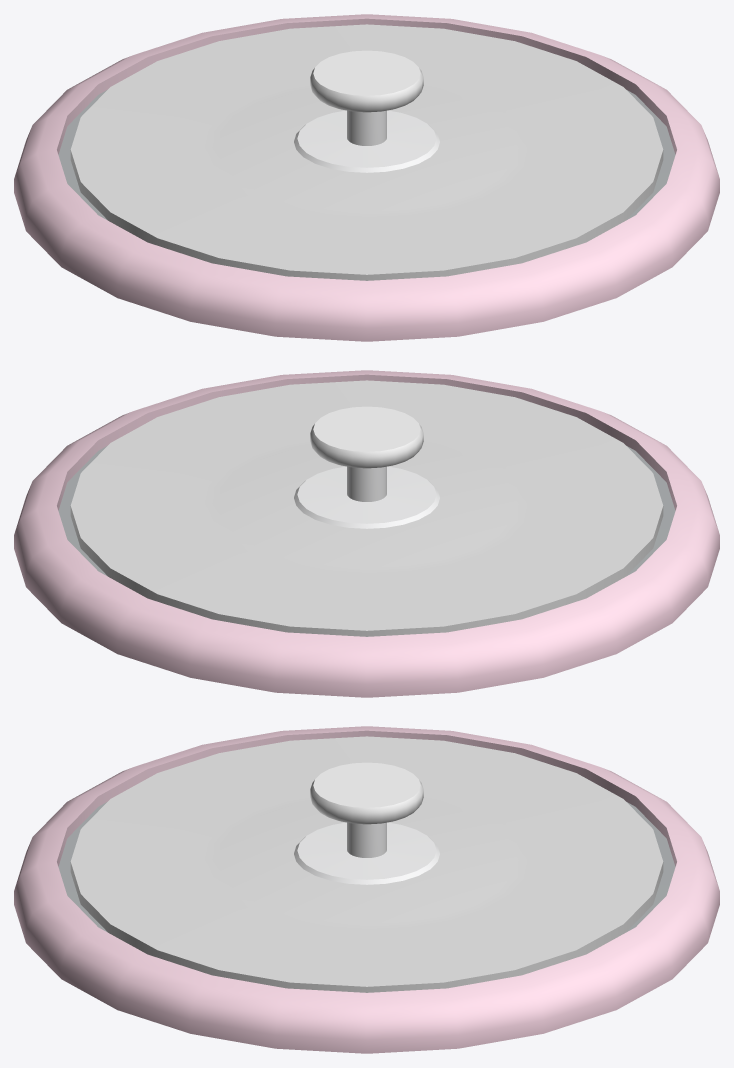
Rendered from Rice Cooker Lid.fbx.
3 renders of one model, top to bottom at view 1: azimuth 30°, elevation 25°; view 2: azimuth 150°, elevation 25°; view 3: azimuth 270°, elevation 25°, orthographic.
Parts seen in each view (by area): view 1: Rice Cooker Lid; view 2: Rice Cooker Lid; view 3: Rice Cooker Lid.
Boxes of the visible parts, box(x1,y1,x2,y2) form: Rice Cooker Lid: box(14, 14, 719, 341); Rice Cooker Lid: box(14, 370, 719, 697); Rice Cooker Lid: box(14, 726, 719, 1053).
Bounding box in the file's own units: 200 × 37.33 × 200.
